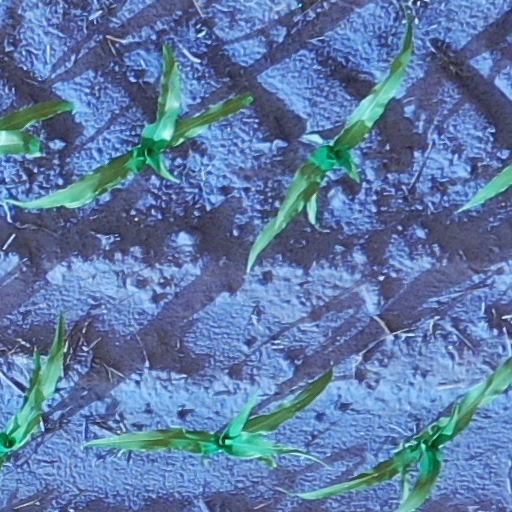planta: (248, 21, 413, 269), (10, 46, 254, 208), (87, 374, 332, 468)
